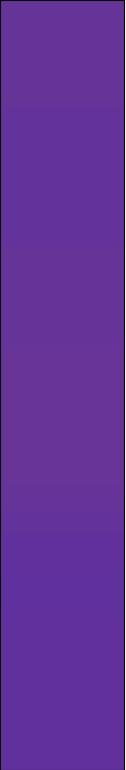safe: (14, 11, 110, 758)
